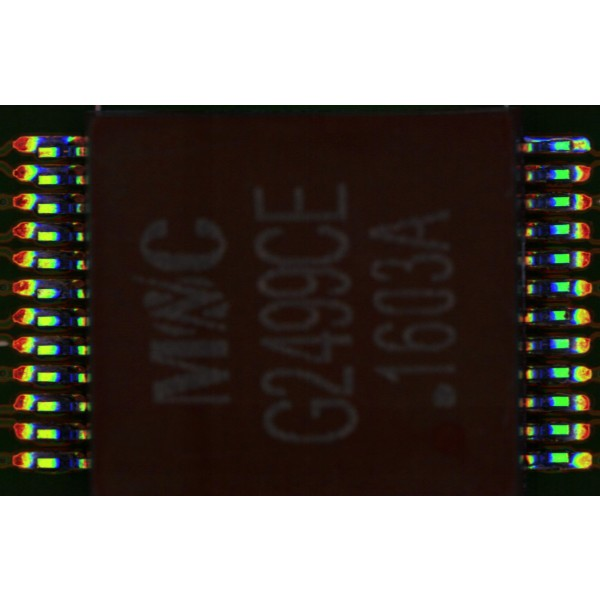Bad_podu: (565, 141, 579, 149)
Bad_qiaojiao: (526, 137, 570, 142)
